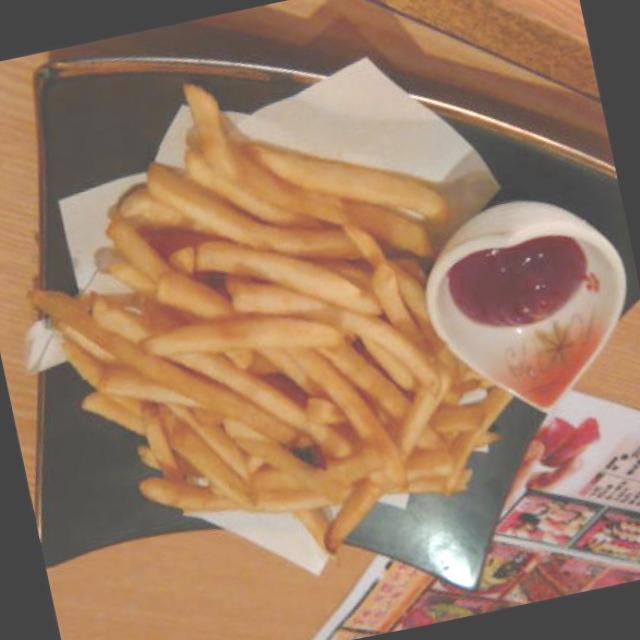French Fries: (47, 106, 526, 596)
Sauce: (438, 222, 608, 348)
